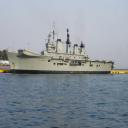Portanaves: (6, 22, 116, 75)
